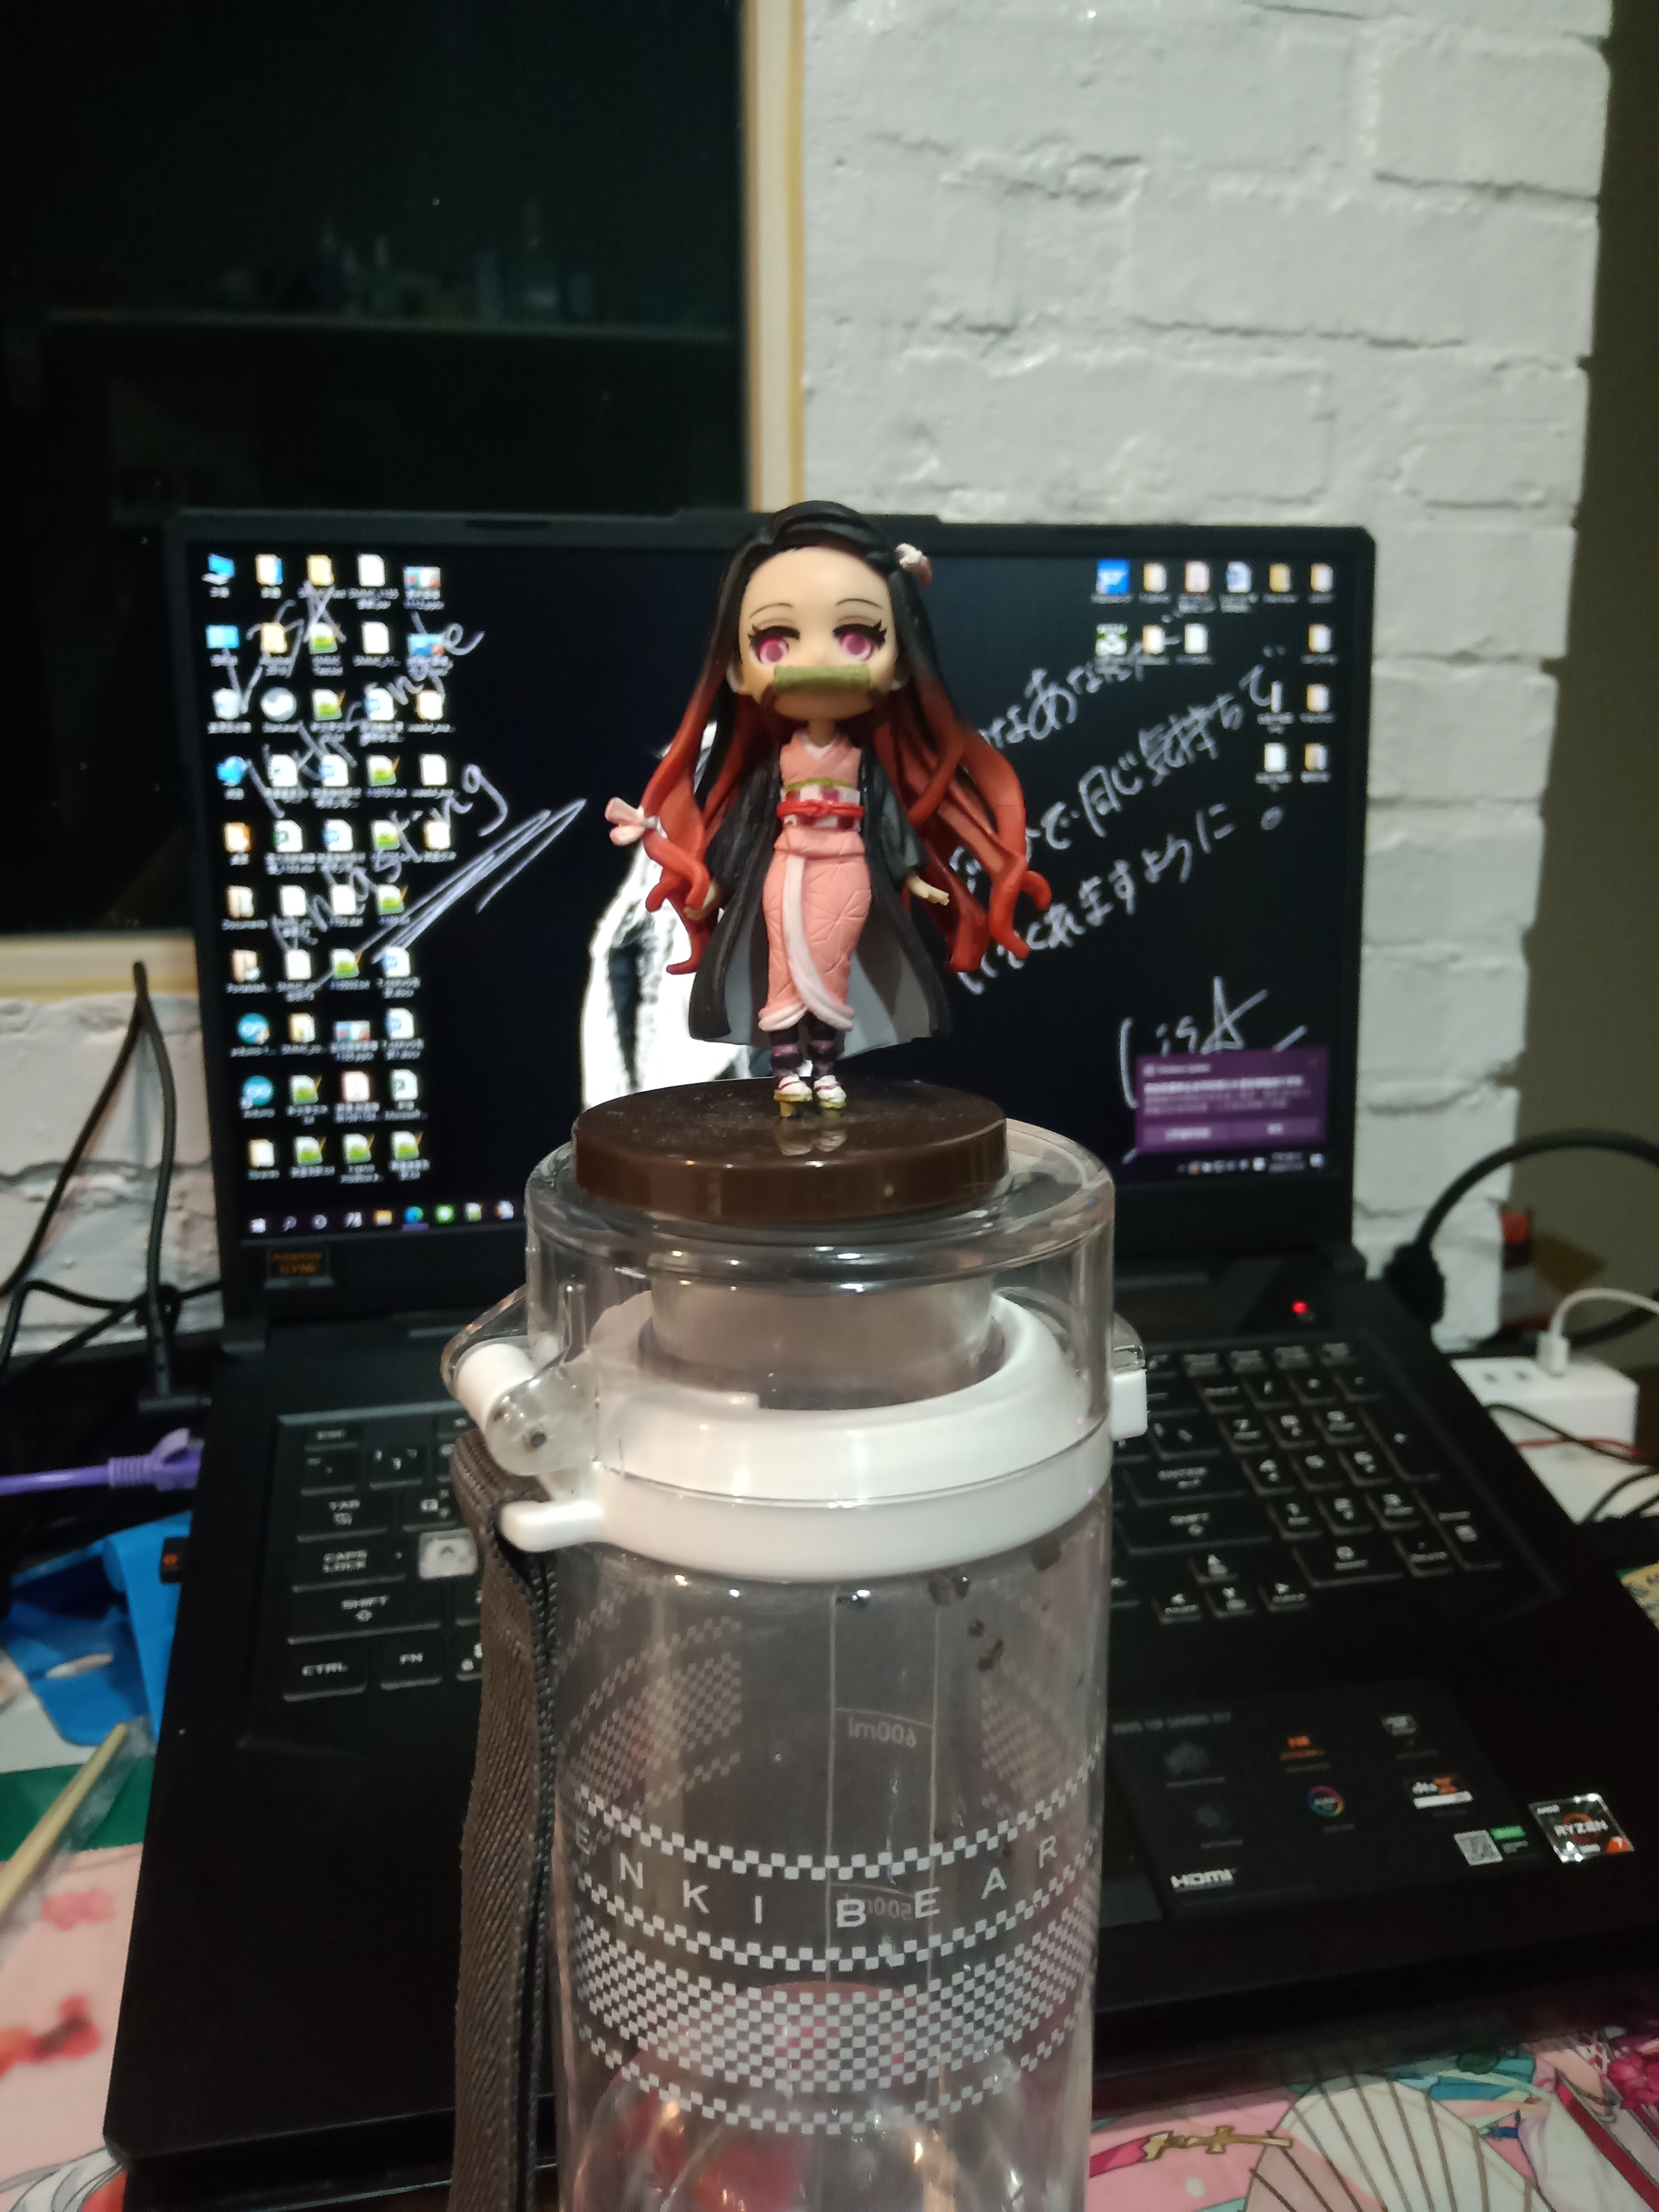Nezuko: (542, 484, 1061, 1249)
